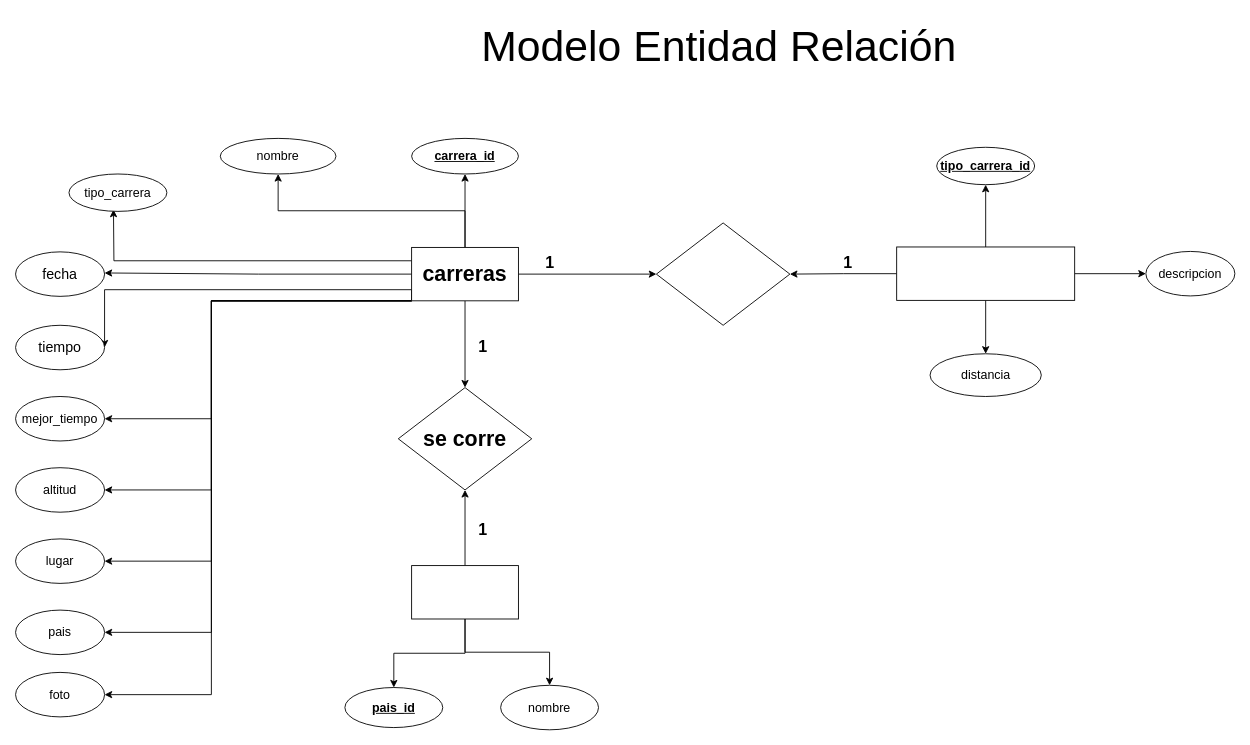
The diagram is 1250 pixels wide and 745 high, and some of its shapes have lost their labels. The shapes that lost their labels are listed below. From the top down, each one's box as (x1, y1, x2, y2) in pixels, then its label:
(655, 222, 790, 325): pertenece
(896, 246, 1075, 300): tipos_carreras
(411, 565, 518, 619): paises
